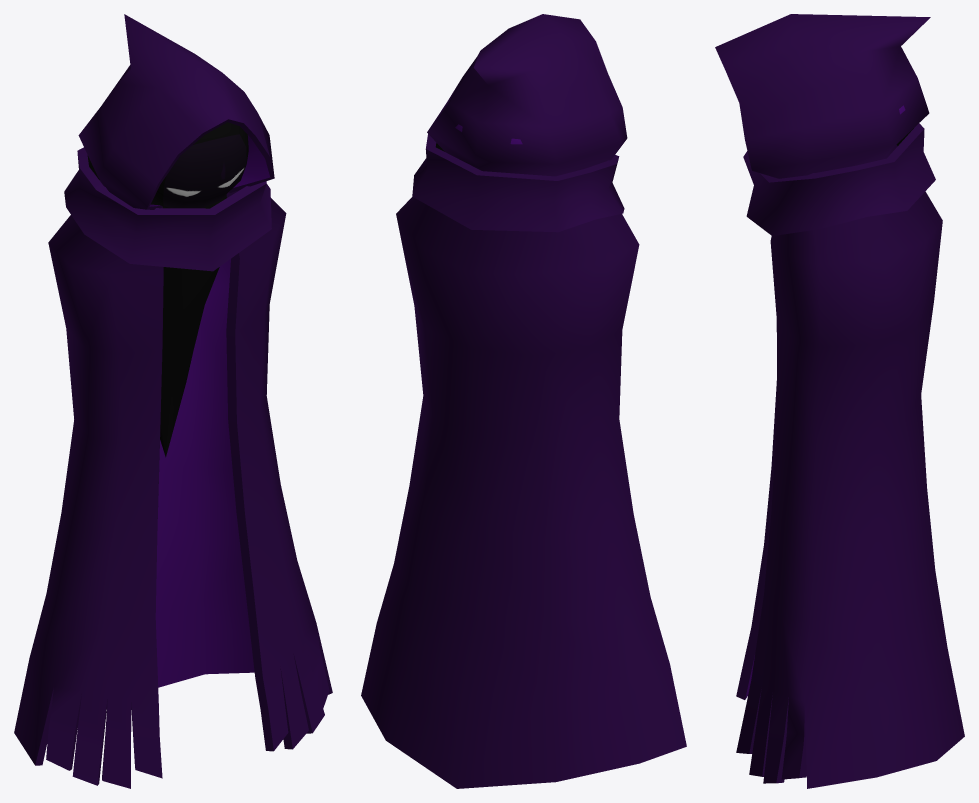
File: Shoot_Enemy.fbx
The picture shows the model from 3 angles, left to right: view 1: azimuth 30°, elevation 25°; view 2: azimuth 150°, elevation 25°; view 3: azimuth 270°, elevation 25°; orthographic projection. The views are drawn at different scales.
Visible parts, largest first — view 1: Hood, Hood1, Head; view 2: Hood, Hood1; view 3: Hood, Hood1.
Boxes of the visible parts, x1,y1,x2,y2 form: Hood: (14,14,332,788); Hood1: (64,147,271,271); Head: (150,122,248,457); Hood: (361,14,686,788); Hood1: (412,134,624,232); Hood: (715,14,964,788); Hood1: (743,123,935,235).
Bounding box in the file's own units: 32.75 × 73.4 × 22.96.
Materials: 1 (1 with a texture image).
